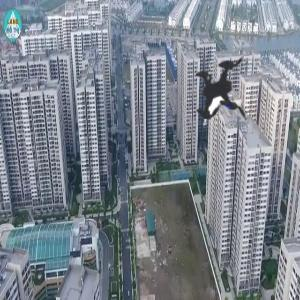drone: (144, 18, 286, 160)
